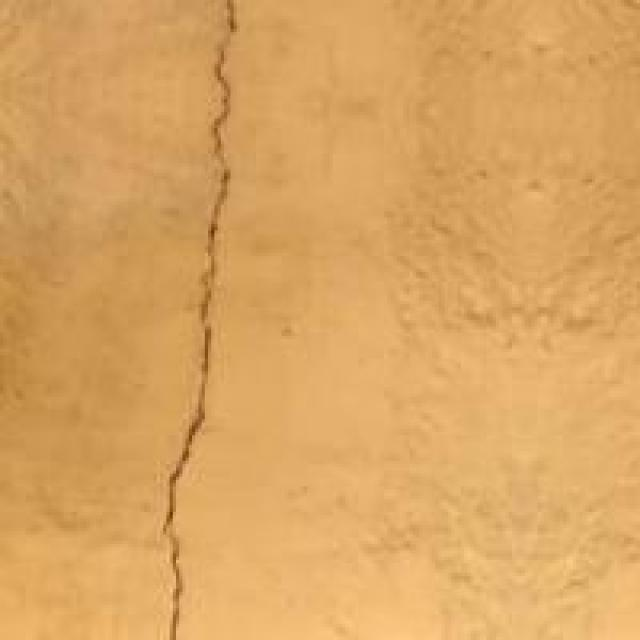Crack: (128, 0, 262, 637)
